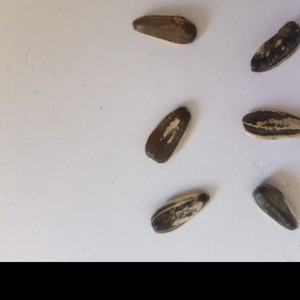girasol: (141, 104, 193, 165), (149, 187, 211, 237), (248, 18, 300, 74), (251, 181, 300, 235), (238, 105, 300, 147), (130, 14, 199, 46)
